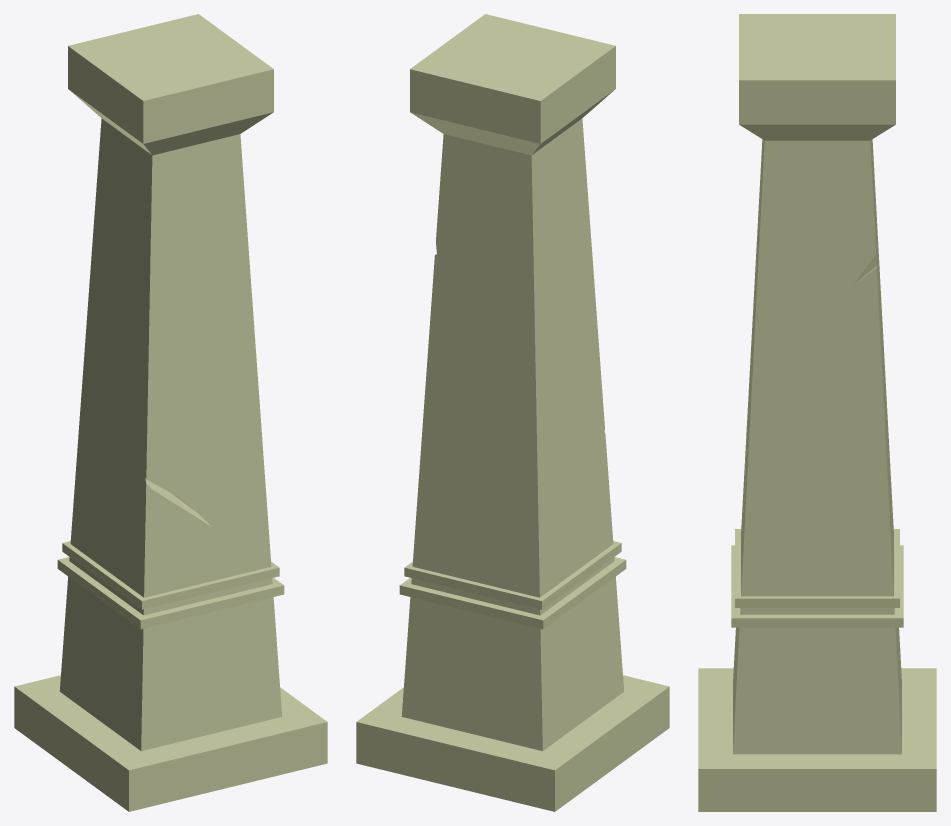
Rendered from pillar.fbx.
3 renders of one model, left to right at view 1: azimuth 30°, elevation 25°; view 2: azimuth 150°, elevation 25°; view 3: azimuth 270°, elevation 25°, orthographic. The views are drawn at different scales.
Parts seen in each view (by area): view 1: Pillar; view 2: Pillar; view 3: Pillar.
Part boxes in pixels (x1,y1,x2,y2): Pillar: (14, 14, 327, 811); Pillar: (356, 14, 669, 811); Pillar: (698, 14, 936, 811).
Size of the model in its own units: 1 by 3.31 by 1.
